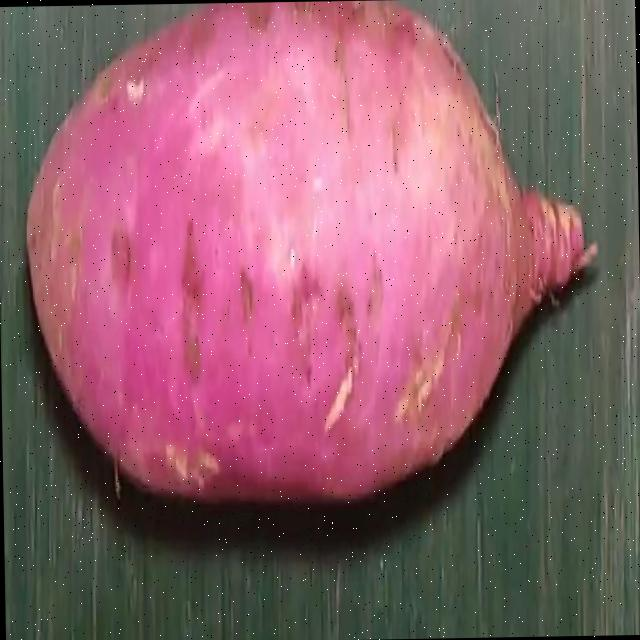Sweet Potato: (26, 1, 582, 502)
